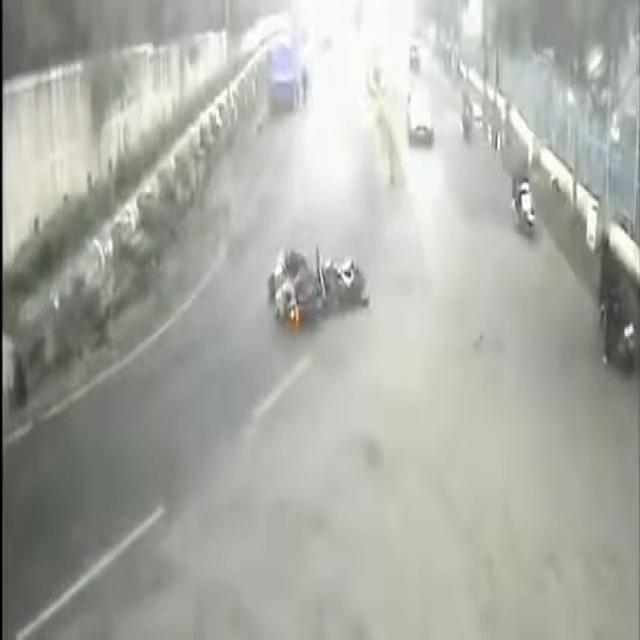accident: (254, 187, 374, 375)
